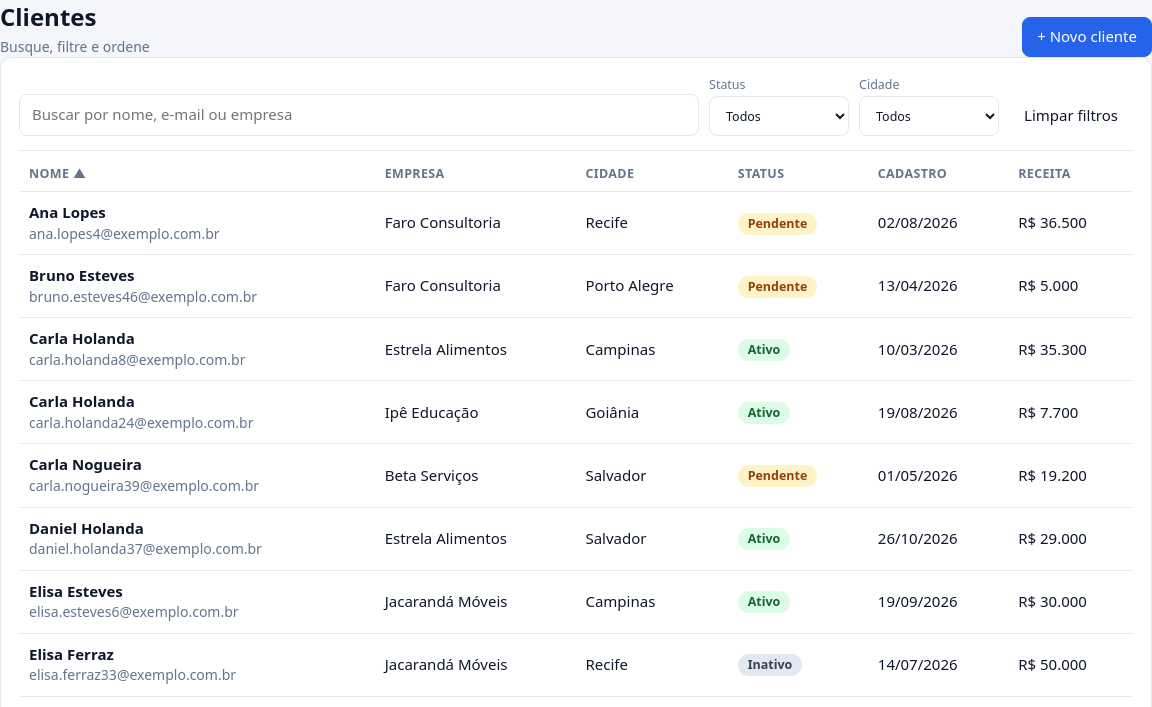
tela Clientes › busca sem resultado mostra mensagem vazia
This screenshot has width=1152, height=707.
Type "zzzzinexistente" into the search field labelled "Buscar".
click(359, 115); type("zzzzinexistente")  # box [19,94,699,136]
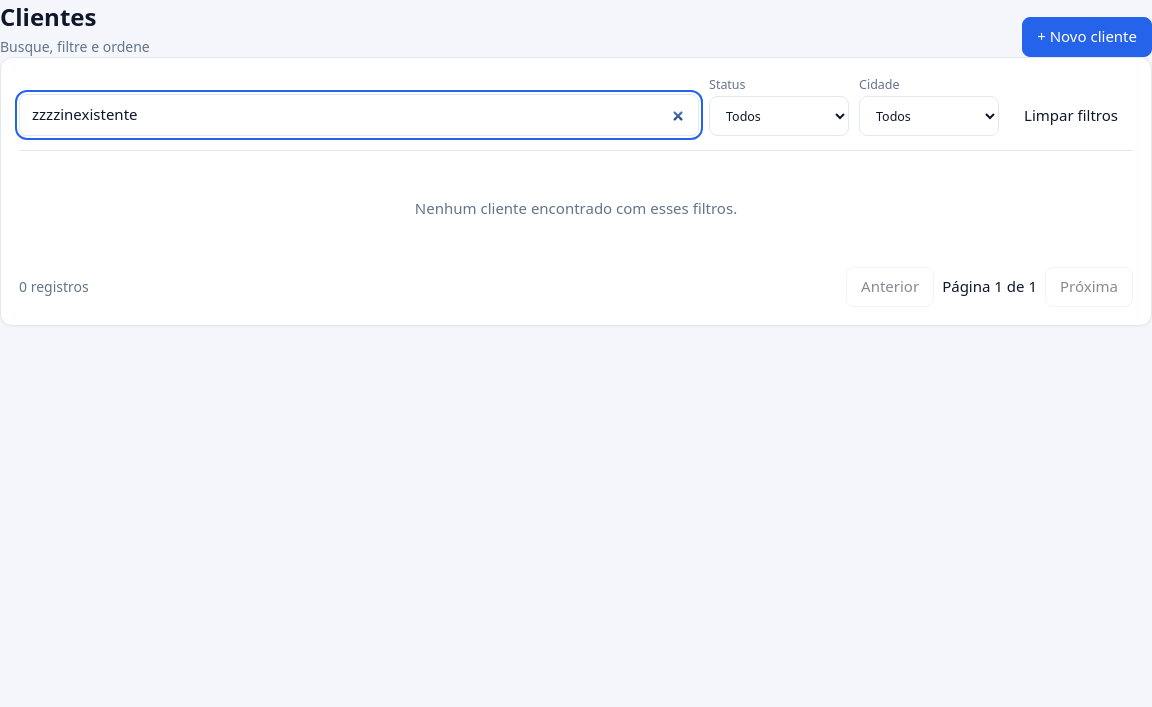
expect the text "Nenhum cliente encontrado com esses filtros." is shown: met, box [415,198,737,218]
